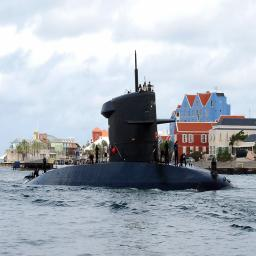submarine: (15, 89, 240, 190)
